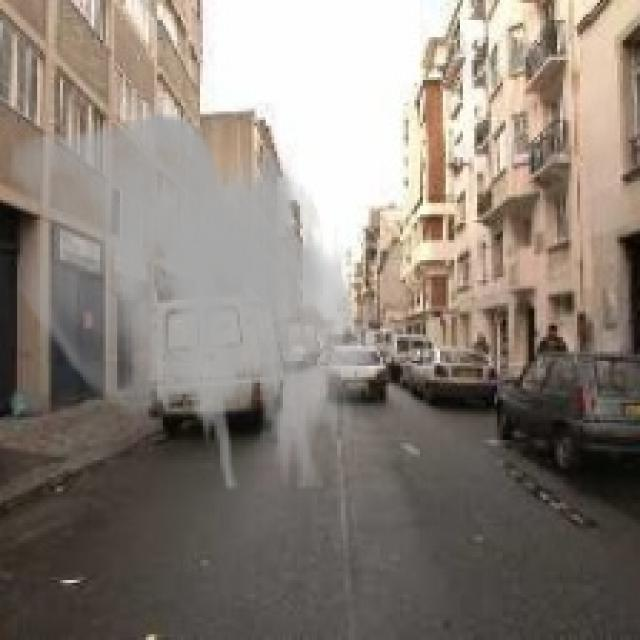smoke: (9, 111, 380, 492)
